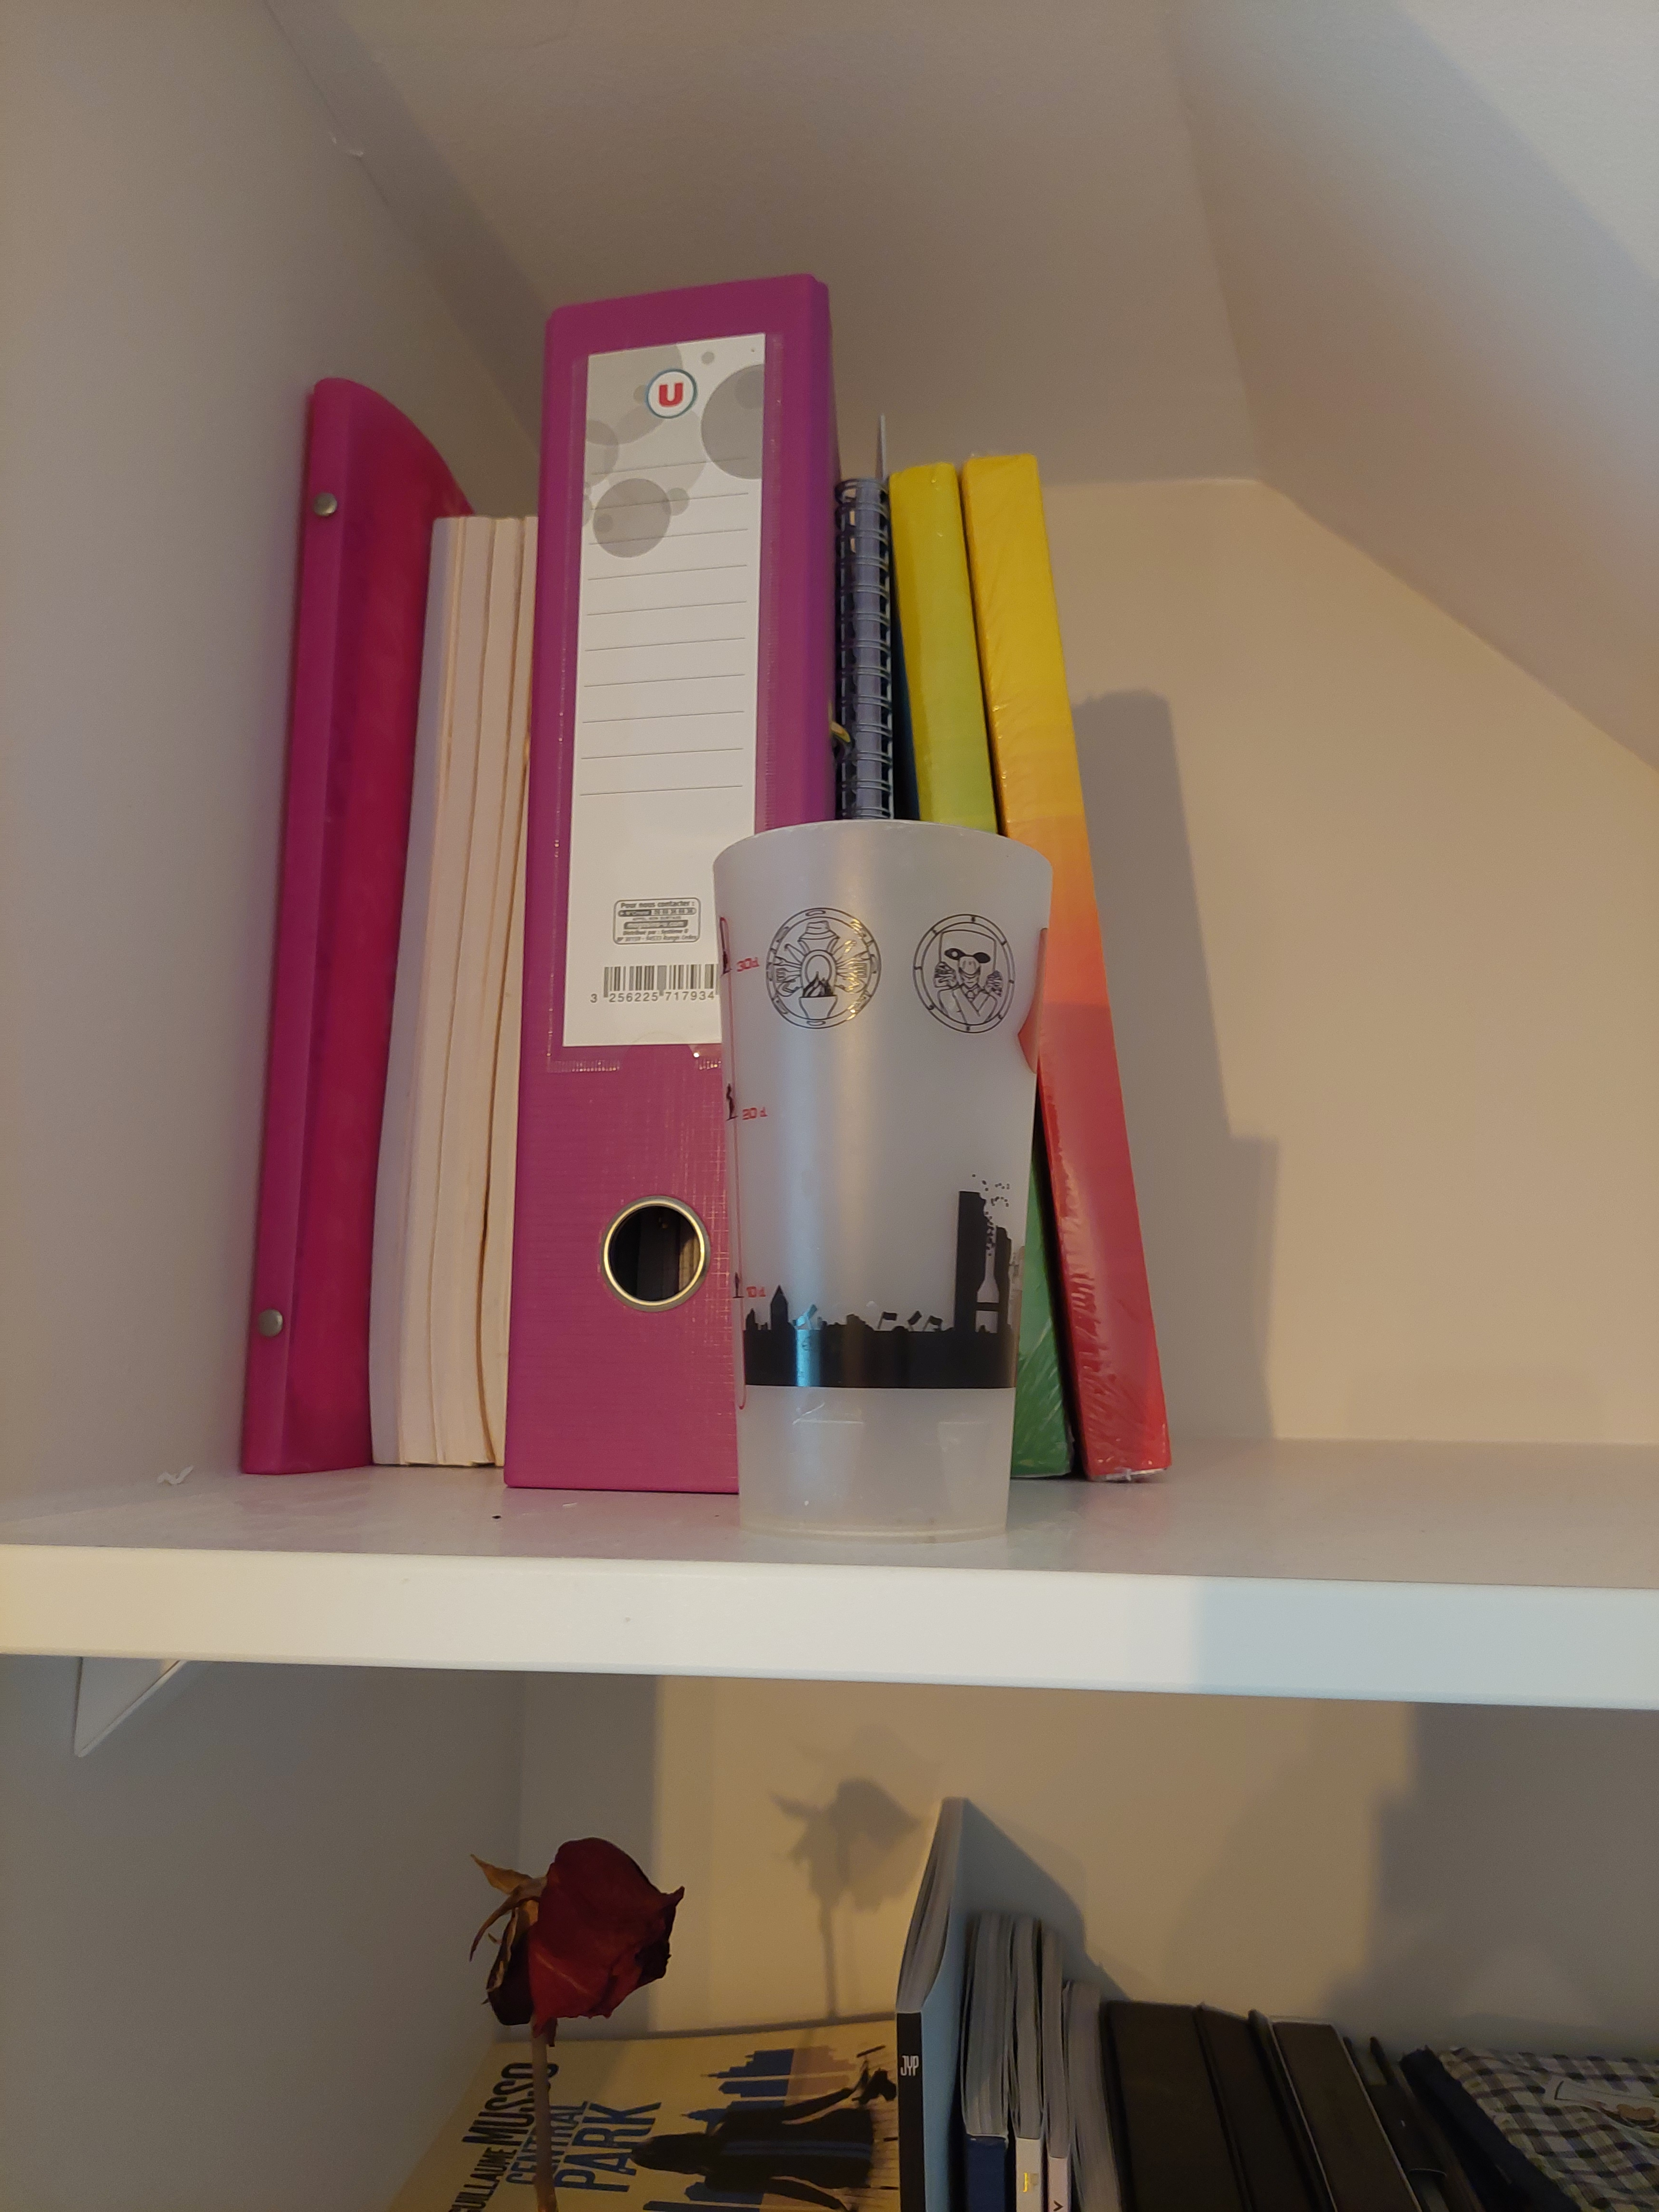ecocup: (706, 819, 1054, 1554)
